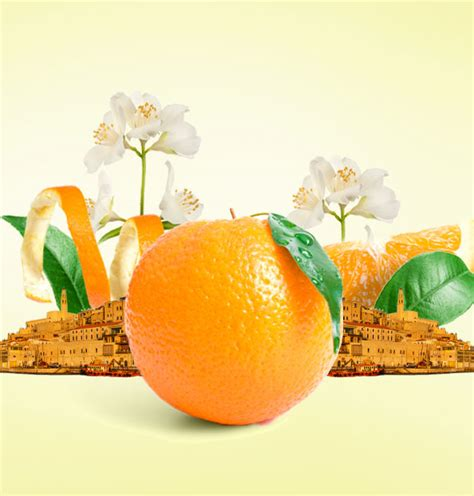orange: (116, 211, 348, 430)
